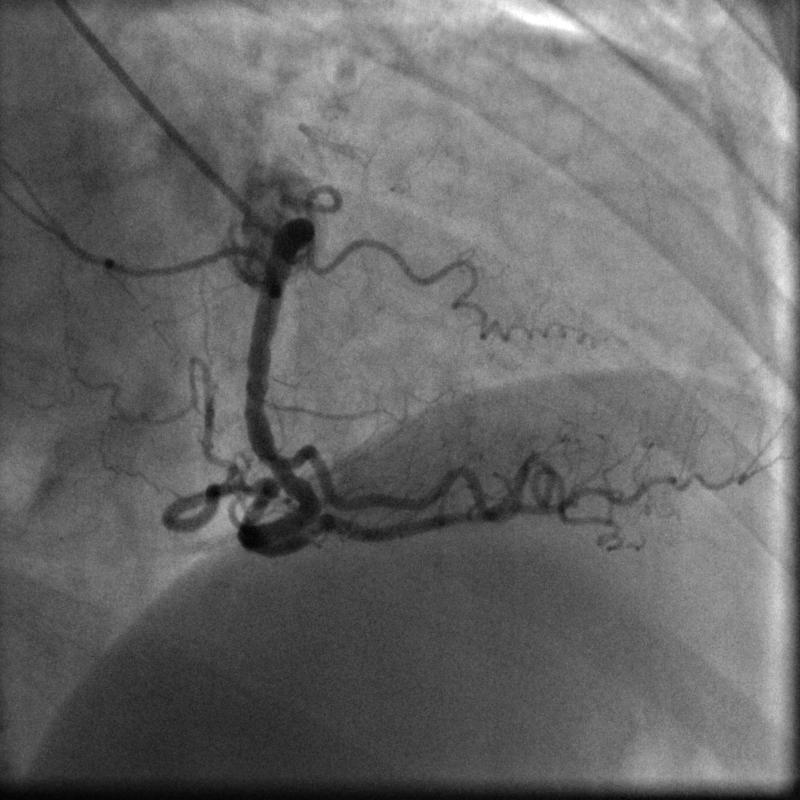Stenosis: (248, 442, 304, 478)
